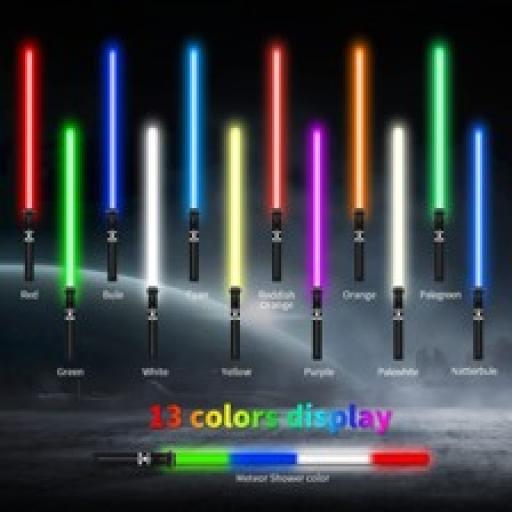lightsaber: (428, 45, 450, 283), (18, 44, 40, 282), (348, 44, 369, 282), (101, 44, 122, 282), (184, 45, 204, 280), (307, 128, 327, 362), (267, 46, 286, 282), (144, 125, 163, 358), (226, 128, 245, 358), (62, 129, 80, 361), (469, 129, 487, 358), (390, 129, 407, 361)
